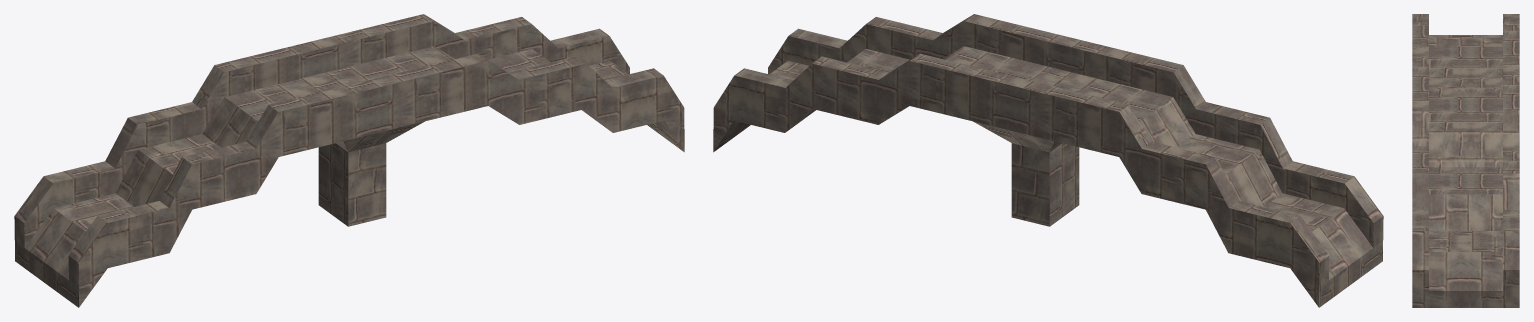
File: Dwarf Bridge.obj
The picture shows the model from 3 angles, left to right: view 1: azimuth 30°, elevation 25°; view 2: azimuth 150°, elevation 25°; view 3: azimuth 270°, elevation 25°; orthographic projection. The views are drawn at different scales.
Parts seen in each view (by area): view 1: Cube; view 2: Cube; view 3: Cube.
Boxes of the visible parts, x1,y1,x2,y2 form: Cube: [14, 14, 684, 307]; Cube: [713, 14, 1383, 307]; Cube: [1412, 14, 1519, 307].
Size of the model in its own units: 1.6 by 0.3747 by 0.2927.
1 material, 1 textured.
